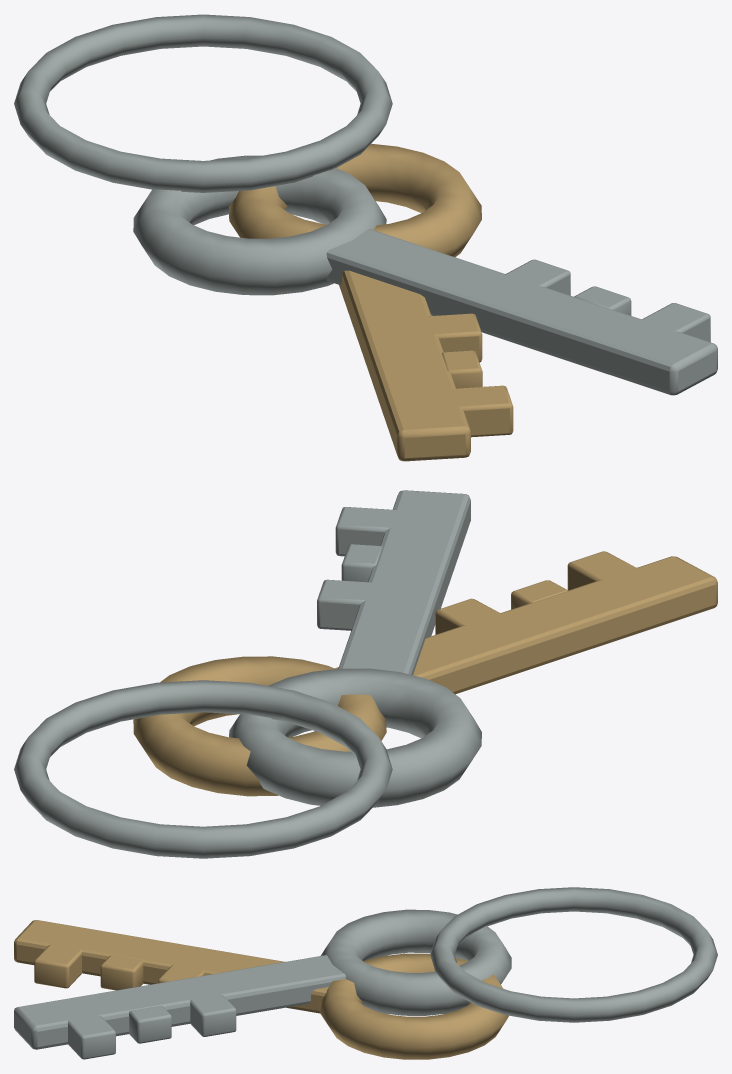
The model's file is Keys.fbx.
3 renders of one model, top to bottom at view 1: azimuth 30°, elevation 25°; view 2: azimuth 150°, elevation 25°; view 3: azimuth 270°, elevation 25°, orthographic. The views are drawn at different scales.
Parts seen in each view (by area): view 1: Keys; view 2: Keys; view 3: Keys.
Boxes of the visible parts, x1,y1,x2,y2 form: Keys: [14, 14, 717, 461]; Keys: [14, 490, 717, 858]; Keys: [14, 887, 717, 1059].
Bounding box in the file's own units: 0.0324 × 0.00712 × 0.0749.
